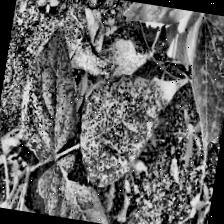ALS: (70, 60, 188, 198), (10, 15, 92, 172), (164, 15, 224, 171), (34, 149, 131, 224), (193, 13, 224, 100), (127, 1, 193, 28)
